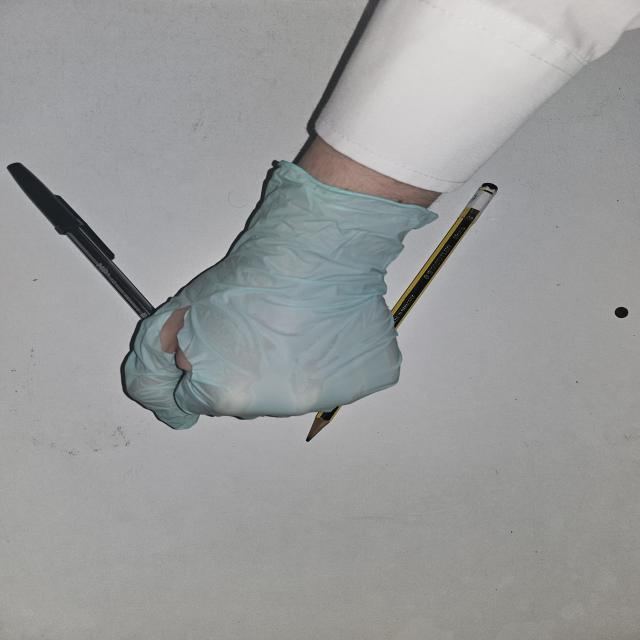gloves_damaged: (116, 154, 442, 432)
